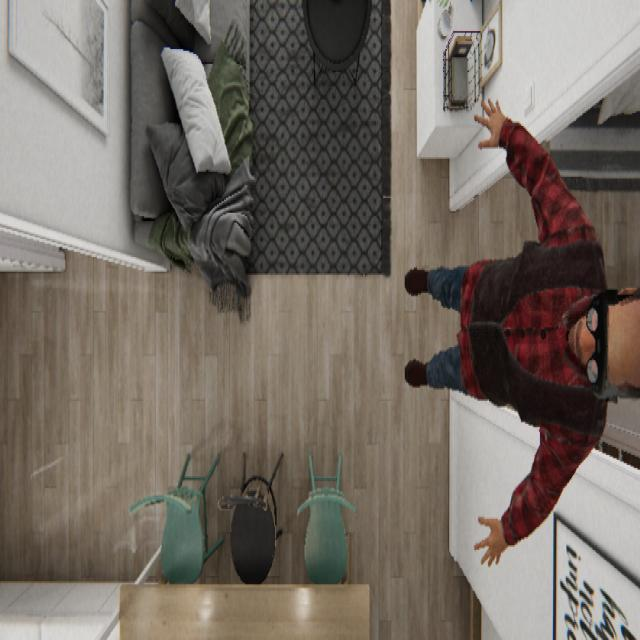Human: (402, 95, 638, 568)
